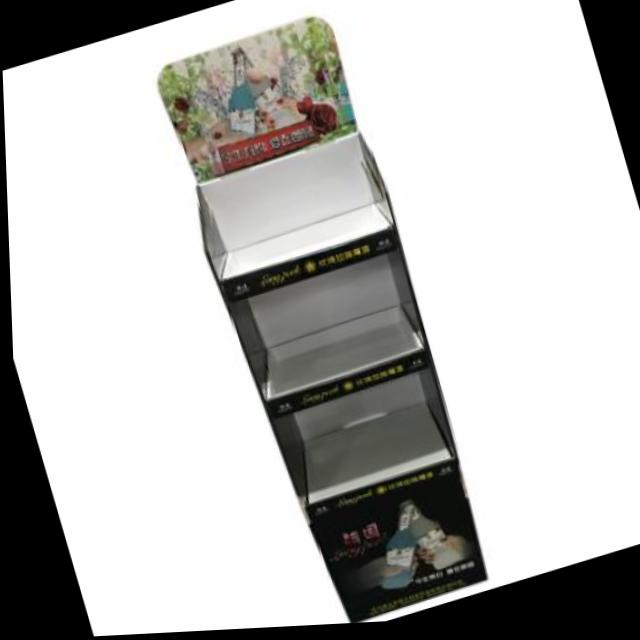box: (109, 0, 531, 636)
